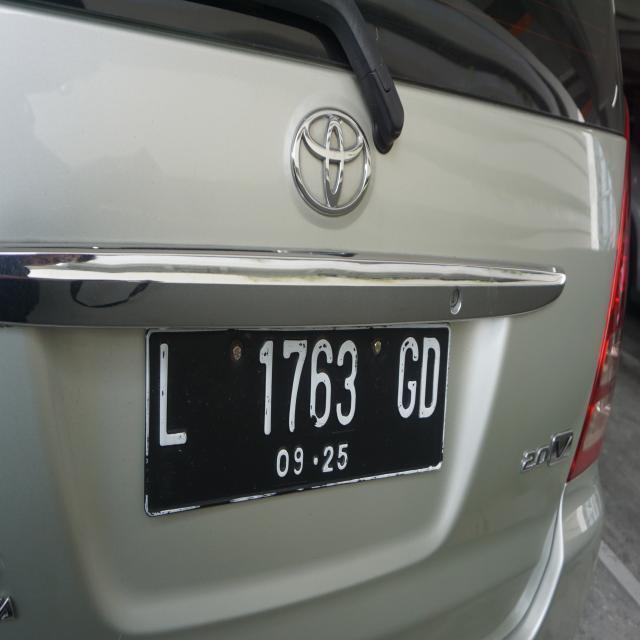1: (252, 332, 278, 439)
3: (330, 330, 360, 431)
6: (308, 339, 336, 426)
7: (279, 336, 312, 431)
D: (416, 332, 442, 428)
G: (394, 331, 419, 420)
L: (150, 333, 190, 451)
